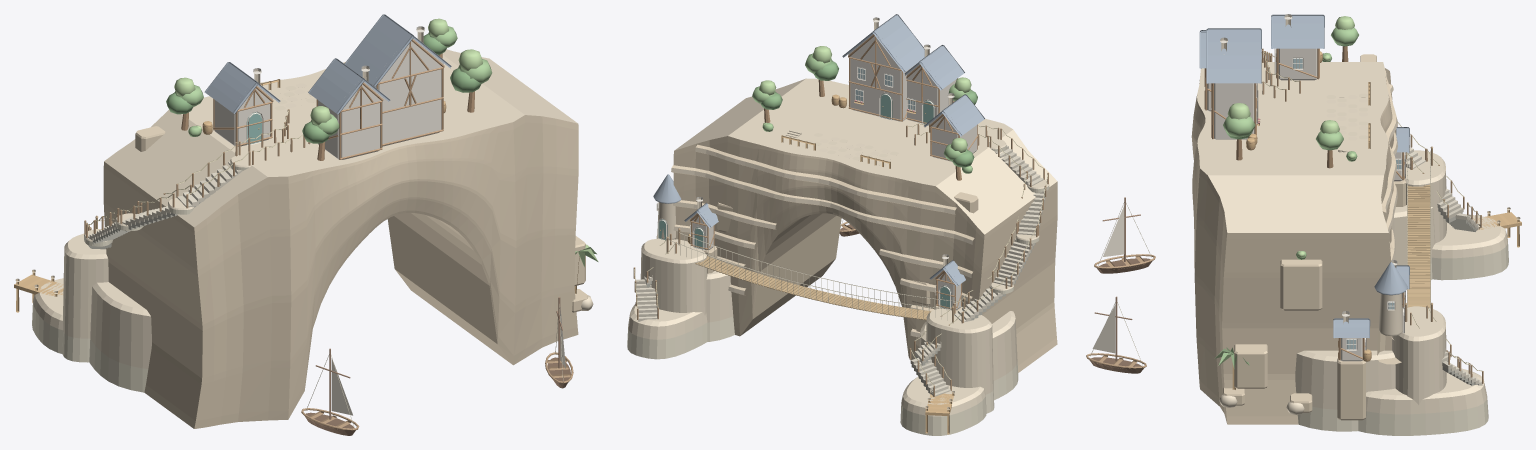
The model's file is arche.glb.
3 views of the same model, side by side, from view 1: azimuth 30°, elevation 25°; view 2: azimuth 150°, elevation 25°; view 3: azimuth 270°, elevation 25° (orthographic). The views are drawn at different scales.
Visible parts, largest first — view 1: arche; view 2: arche; view 3: arche.
Boxes of the visible parts, <box> form: arche: <box>14,14,598,435</box>; arche: <box>627,14,1057,435</box>; arche: <box>1086,14,1521,435</box>.
Size of the model in its own units: 27.55 by 20.89 by 25.93.
